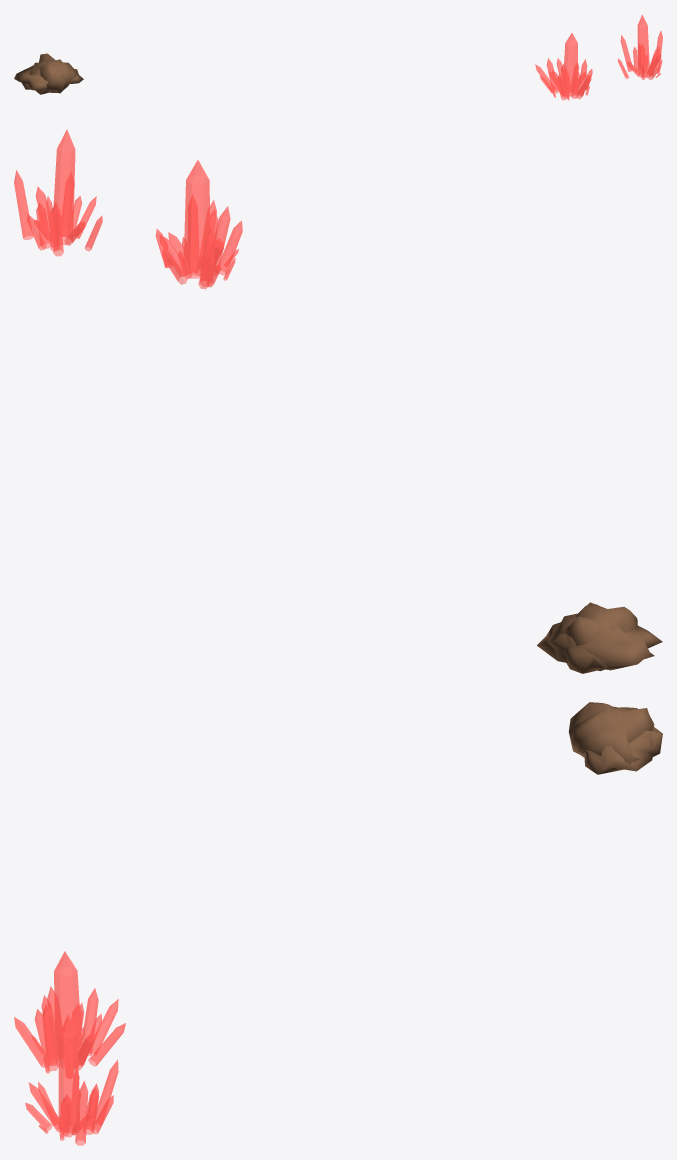
The model's file is props.glb.
3 renders of one model, top to bottom at view 1: azimuth 30°, elevation 25°; view 2: azimuth 150°, elevation 25°; view 3: azimuth 270°, elevation 25°, orthographic. The views are drawn at different scales.
Parts seen in each view (by area): view 1: CrystalA, CrystalB, RockD, RockC, RockB, RockA; view 2: CrystalA, CrystalB, RockC, RockB, RockD; view 3: CrystalA, CrystalB, RockD, RockC, RockB, RockA.
Boxes of the visible parts, x1,y1,x2,y2 form: CrystalA: (535, 33, 592, 100); CrystalB: (618, 14, 662, 79); RockD: (39, 53, 71, 93); RockC: (14, 65, 83, 90); RockB: (29, 60, 71, 92); RockA: (22, 62, 77, 94); CrystalA: (155, 160, 242, 289); CrystalB: (14, 129, 102, 256); RockC: (537, 622, 662, 670); RockB: (561, 602, 627, 673); RockD: (564, 604, 637, 670); CrystalA: (14, 951, 125, 1078); CrystalB: (25, 1014, 118, 1145); RockD: (568, 702, 653, 754); RockC: (584, 706, 654, 774); RockB: (571, 707, 662, 757); RockA: (578, 723, 653, 763).
Bounding box in the file's own units: 26.83 × 3.75 × 16.65.
